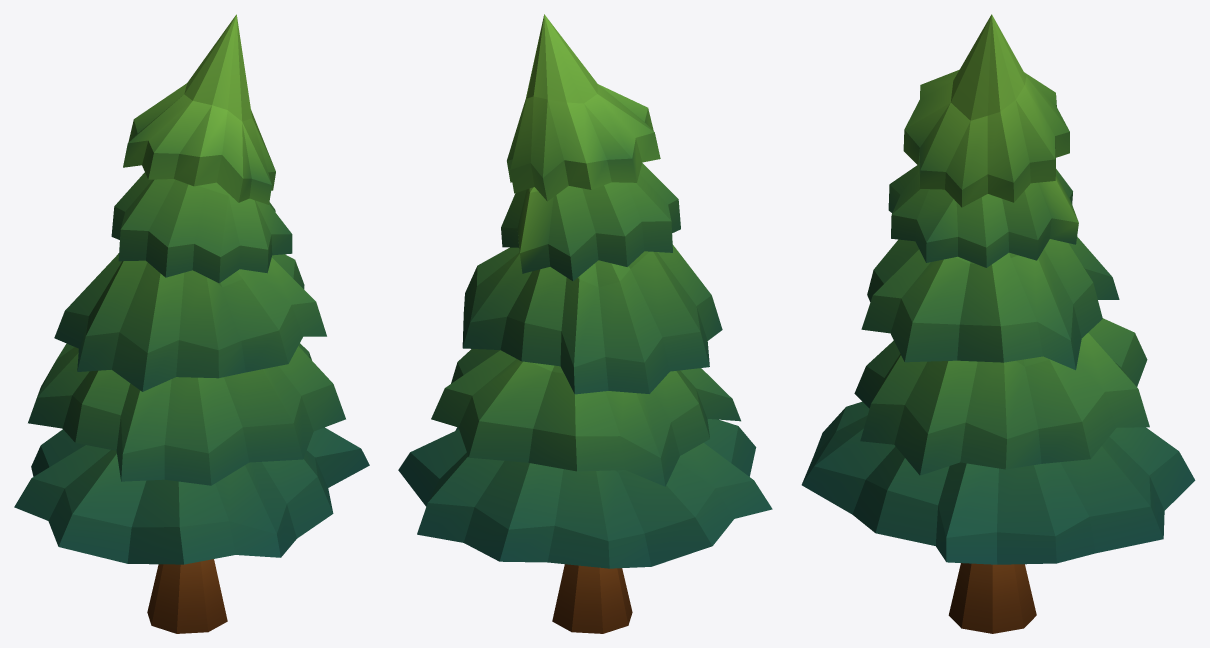
The model's file is Tree_Fern_Tall_SumAut.fbx.
3 renders of one model, left to right at view 1: azimuth 30°, elevation 25°; view 2: azimuth 150°, elevation 25°; view 3: azimuth 270°, elevation 25°, orthographic. The views are drawn at different scales.
Visible parts, largest first — view 1: Tree_Fern_Tall_SumAut; view 2: Tree_Fern_Tall_SumAut; view 3: Tree_Fern_Tall_SumAut.
Part boxes in pixels (box(x1,y1,x2,y2)): Tree_Fern_Tall_SumAut: box(14, 14, 369, 633); Tree_Fern_Tall_SumAut: box(398, 14, 772, 633); Tree_Fern_Tall_SumAut: box(801, 14, 1195, 633).
Size of the model in its own units: 288 by 510 by 291.
